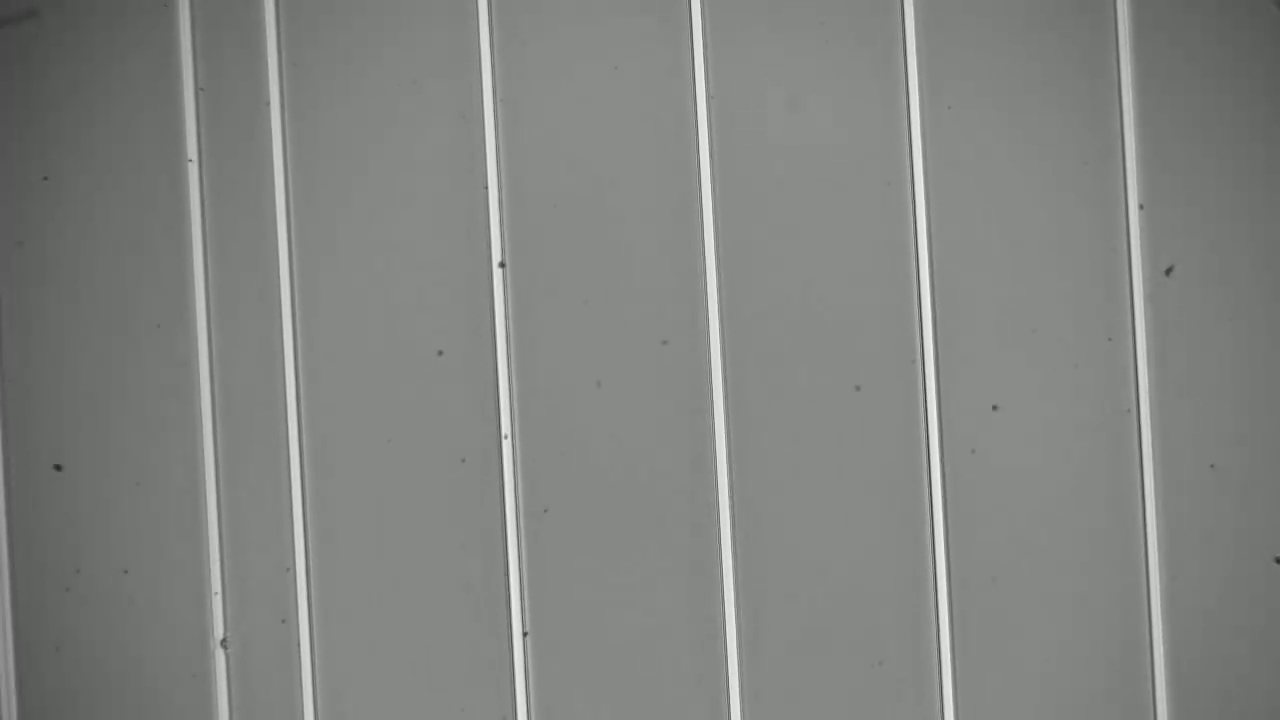stains_enbedded: (217, 632, 238, 658)
